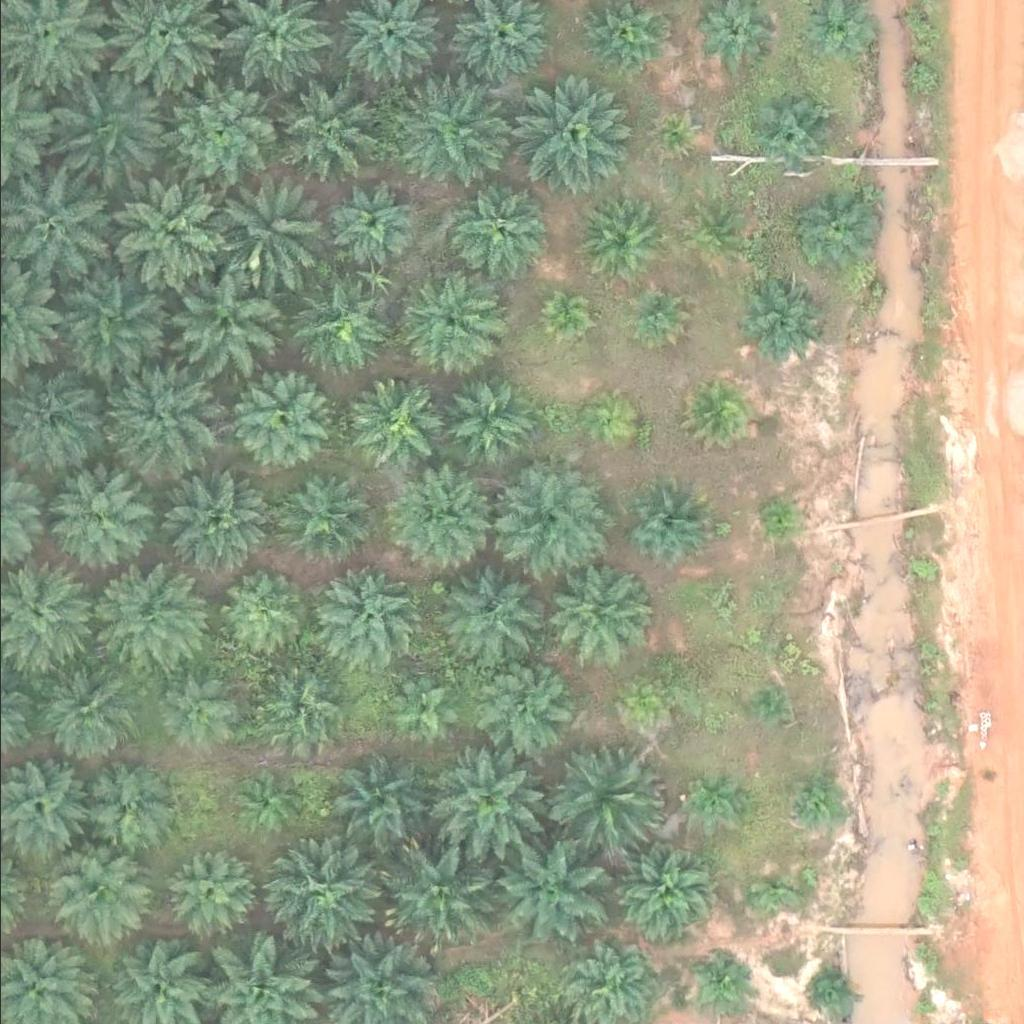Kelapa_Sawit: (518, 79, 632, 192), (491, 829, 604, 942), (258, 842, 371, 955), (551, 738, 664, 851), (419, 743, 532, 856), (52, 261, 165, 374), (165, 261, 278, 374), (52, 64, 165, 177), (495, 459, 609, 571), (374, 840, 487, 952), (89, 558, 202, 670), (116, 366, 229, 478), (164, 71, 277, 183), (385, 79, 498, 191), (40, 847, 141, 947), (67, 760, 168, 860), (324, 749, 425, 849), (540, 566, 641, 666), (166, 467, 267, 567), (383, 464, 484, 564), (234, 370, 335, 470), (214, 179, 315, 279), (118, 179, 219, 279), (612, 845, 712, 945), (246, 658, 346, 758), (471, 660, 571, 760), (434, 567, 534, 667), (314, 560, 414, 660), (30, 660, 130, 760), (45, 469, 145, 569), (346, 371, 446, 471), (289, 272, 389, 372), (397, 268, 497, 368), (449, 179, 549, 279), (281, 76, 381, 176), (624, 479, 712, 567), (165, 849, 253, 937), (277, 472, 365, 560), (443, 377, 531, 465), (747, 85, 835, 173), (324, 180, 412, 268), (215, 569, 303, 656), (155, 667, 243, 754), (791, 186, 879, 273), (576, 195, 664, 282), (735, 282, 811, 357), (389, 672, 464, 747), (235, 772, 298, 835), (688, 382, 751, 445), (682, 205, 745, 267), (581, 392, 632, 442), (698, 957, 749, 1007), (809, 964, 859, 1014), (746, 867, 796, 917), (792, 775, 842, 825), (689, 770, 739, 820), (539, 294, 589, 344), (631, 289, 681, 339), (743, 684, 781, 722), (759, 498, 797, 535), (625, 674, 662, 711), (659, 113, 696, 150), (708, 587, 734, 612)
